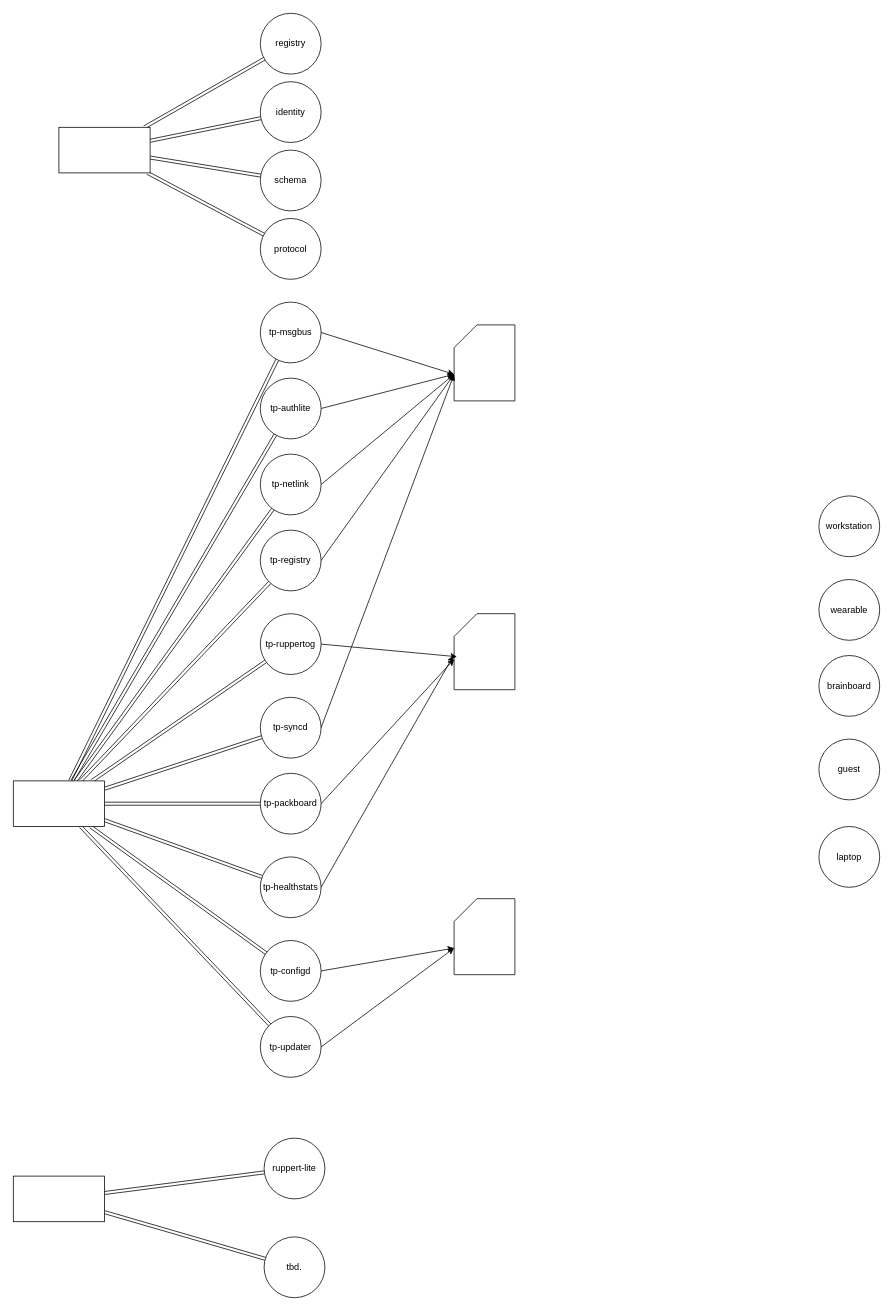
Image size: 893x1311. Some labels were removed from this diagram. The box of each missing label's shape, as (x1, y1, x2, y2) in pixels:
AdminConfig: (453, 898, 515, 975)
Core: (58, 127, 150, 173)
PackServices: (453, 613, 515, 690)
Runtime: (13, 1175, 104, 1222)
Services: (13, 780, 104, 826)
Technet: (453, 324, 515, 401)
